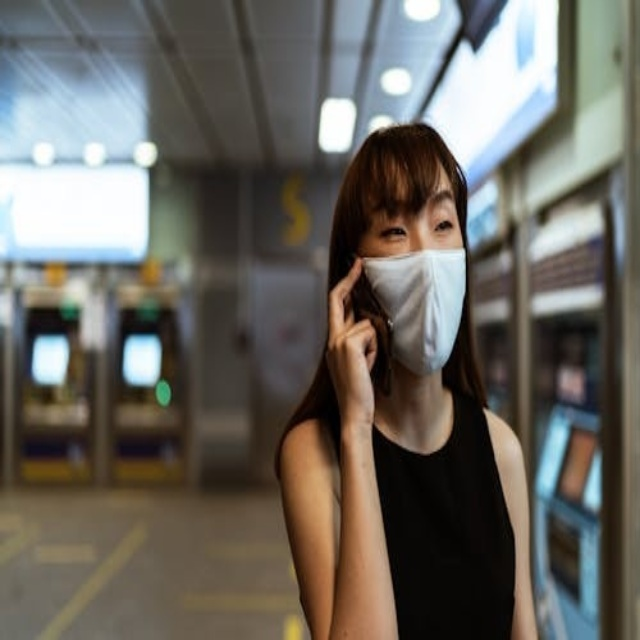Mascara: (359, 248, 468, 377)
Sin_gafas: (366, 192, 463, 256)
Sin_guantes: (323, 252, 388, 431)
